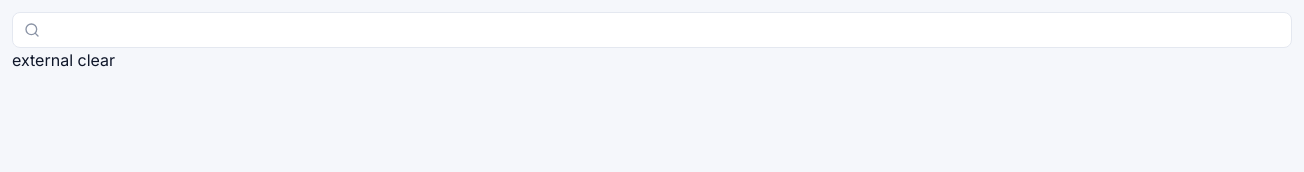
SearchInput › keeps what the user typed while an earlier search is being committed
Type "z" into the search field at (652, 30), box [12, 12, 1292, 48]
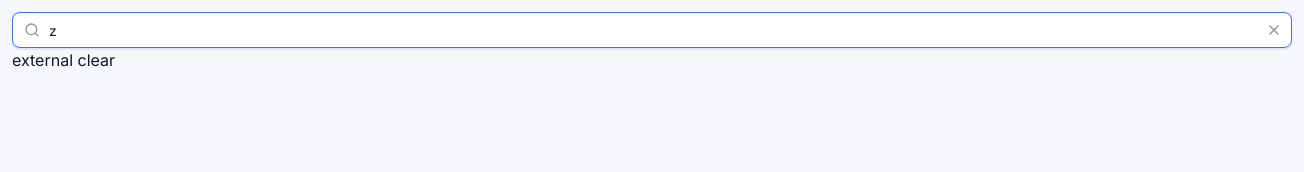
Type "y" into the search field at (652, 30), box [12, 12, 1292, 48]
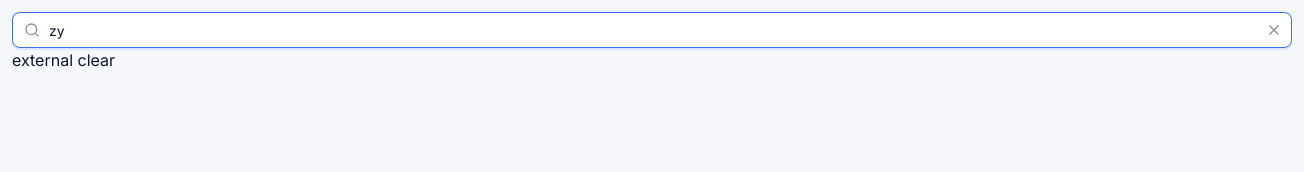
Check: the search field holds "zy", box [12, 12, 1292, 48]
